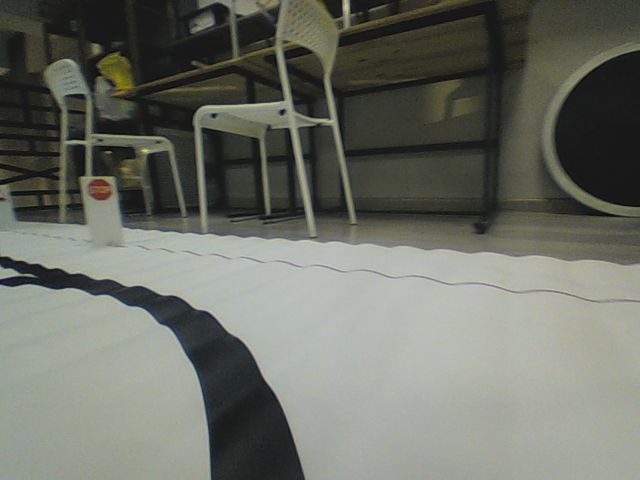Stop: (86, 178, 113, 202)
